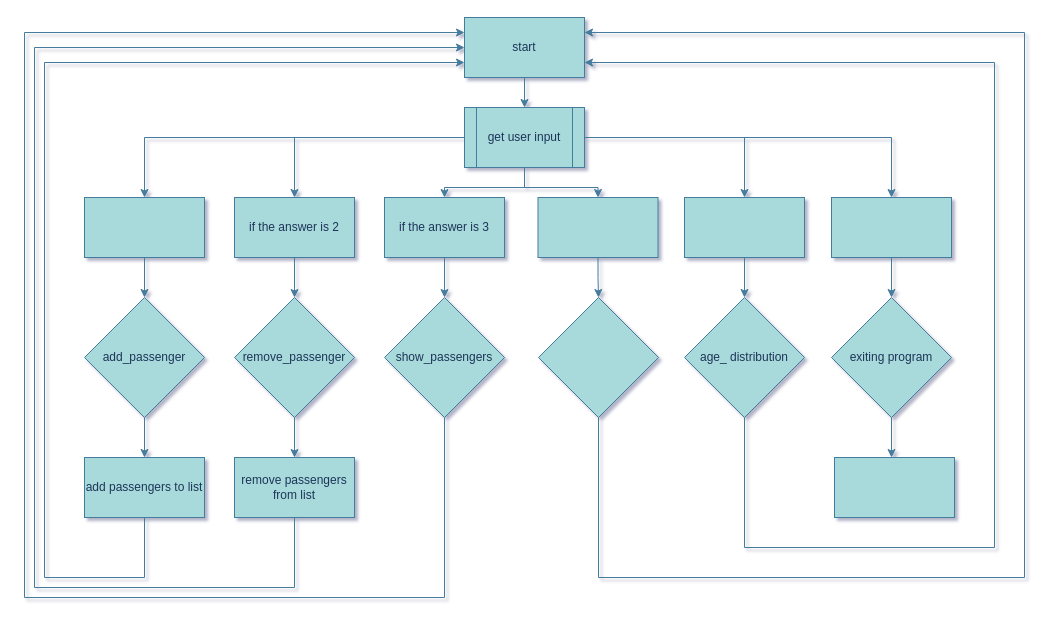
The diagram is 1056 pixels wide and 629 high, and some of its shapes have lost their labels. Each missing label, with the box of its shape:
average_age: (538, 296, 658, 418)
end: (834, 456, 954, 518)
if the answer is 0: (830, 196, 952, 258)
if the answer is 1: (84, 196, 204, 258)
if the answer is 4: (537, 196, 658, 258)
if the answer is 5: (684, 196, 804, 258)
